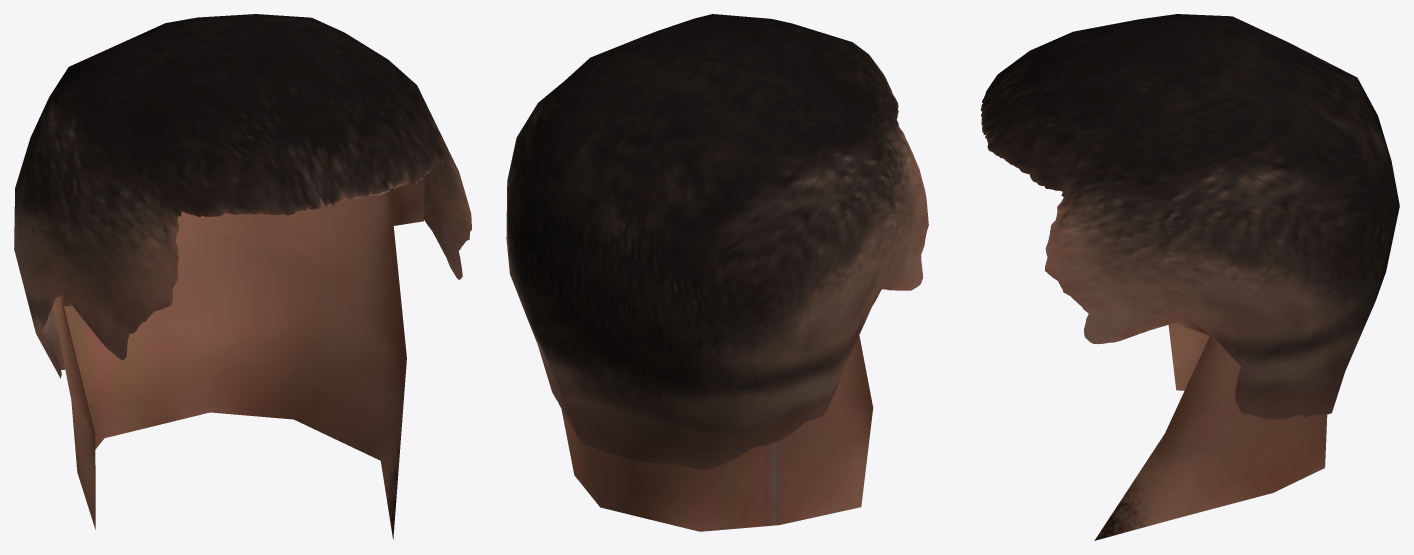
Rendered from egy-salah.glb.
3 views of the same model, side by side, from view 1: azimuth 30°, elevation 25°; view 2: azimuth 150°, elevation 25°; view 3: azimuth 270°, elevation 25° (orthographic). The views are drawn at different scales.
Parts seen in each view (by area): view 1: hair; view 2: hair; view 3: hair.
Part boxes in pixels (left/top/right/bottom): hair: left=14, top=14, right=471, bottom=539; hair: left=506, top=14, right=928, bottom=531; hair: left=980, top=14, right=1399, bottom=540.
Size of the model in its own units: 0.1509 by 0.1967 by 0.1704.
2 materials, 2 textured.
